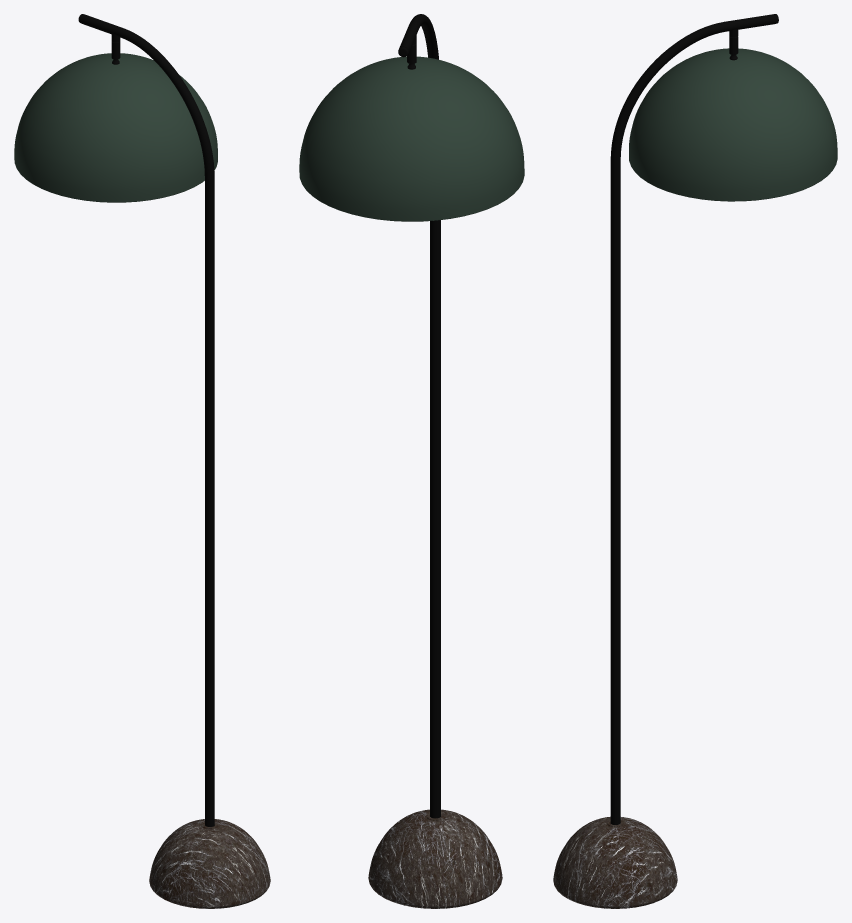
Rendered from lampe labo.obj.
The picture shows the model from 3 angles, left to right: view 1: azimuth 30°, elevation 25°; view 2: azimuth 150°, elevation 25°; view 3: azimuth 270°, elevation 25°; orthographic projection. The views are drawn at different scales.
Visible parts, largest first — view 1: Floor_lamp_043_1, Floor_lamp_043_16162_6, Floor_lamp_043_20906_11; view 2: Floor_lamp_043_1, Floor_lamp_043_20906_11, Floor_lamp_043_16162_6; view 3: Floor_lamp_043_1, Floor_lamp_043_16162_6, Floor_lamp_043_20906_11.
Boxes of the visible parts, <box> form: Floor_lamp_043_1: <box>14,53,217,201</box>; Floor_lamp_043_16162_6: <box>78,14,214,826</box>; Floor_lamp_043_20906_11: <box>149,819,270,908</box>; Floor_lamp_043_1: <box>299,56,524,220</box>; Floor_lamp_043_20906_11: <box>368,809,502,908</box>; Floor_lamp_043_16162_6: <box>398,14,440,818</box>; Floor_lamp_043_1: <box>629,48,837,200</box>; Floor_lamp_043_16162_6: <box>610,14,778,824</box>; Floor_lamp_043_20906_11: <box>553,816,677,908</box>.
Bounding box in the file's own units: 31.2 × 139 × 42.4.
Materials: 4 (1 with a texture image).
